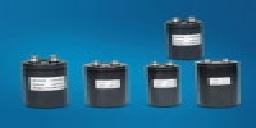Electrolytic-capacitor: (191, 57, 246, 110), (21, 51, 70, 106), (80, 59, 132, 110), (143, 58, 184, 110), (164, 16, 211, 60)
